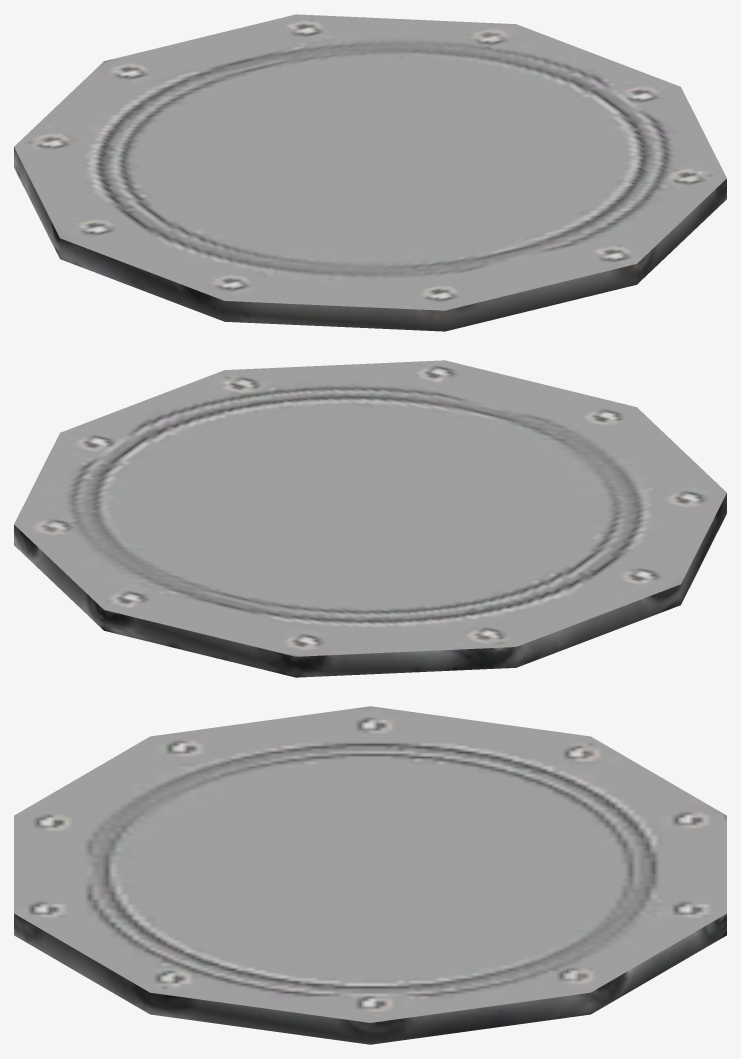
The model's file is msd.glb.
The picture shows the model from 3 angles, top to bottom: view 1: azimuth 30°, elevation 25°; view 2: azimuth 150°, elevation 25°; view 3: azimuth 270°, elevation 25°; orthographic projection. The views are drawn at different scales.
Visible parts, largest first — view 1: msd; view 2: msd; view 3: msd.
Boxes of the visible parts, bbox=[...] form: msd: bbox=[14, 14, 726, 331]; msd: bbox=[14, 360, 726, 677]; msd: bbox=[14, 706, 726, 1044].
Size of the model in its own units: 0.5224 by 0.0786 by 0.4968.
Materials: 1 (1 with a texture image).
